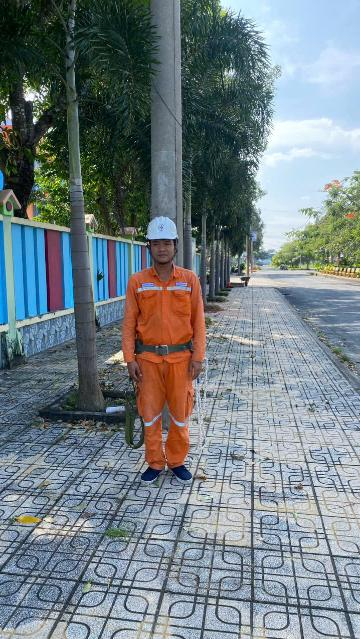harness: (130, 338, 199, 360)
helmet: (139, 213, 181, 247)
shoes: (167, 456, 197, 489), (141, 451, 164, 487)
